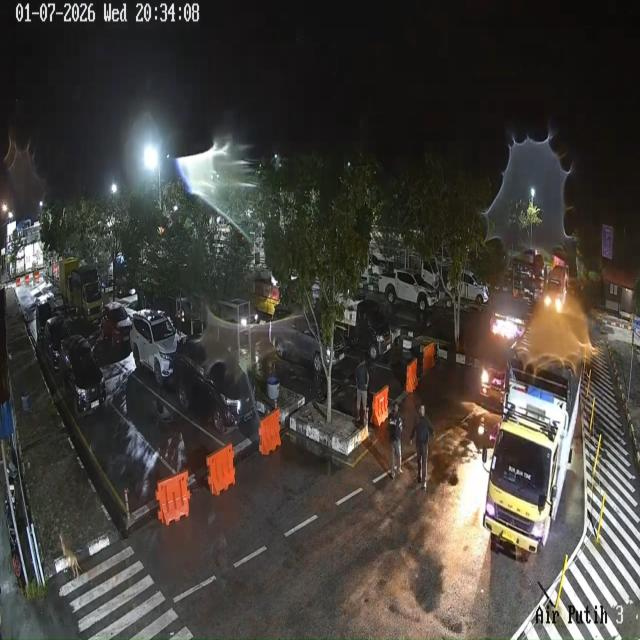Golongan IVA: (174, 338, 259, 434), (268, 304, 346, 375), (59, 335, 106, 418), (130, 309, 179, 386), (41, 316, 70, 370), (100, 301, 132, 347)
Golongan IVB: (378, 270, 439, 312)
Golongan VB: (482, 360, 581, 554), (59, 258, 102, 322)
